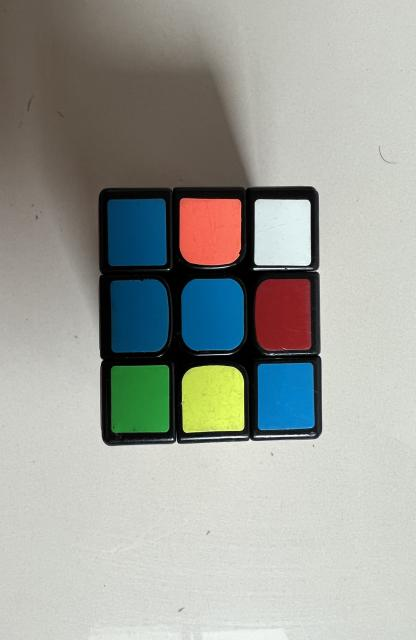Blue: (181, 279, 244, 351), (110, 279, 169, 352), (107, 199, 167, 266), (258, 362, 315, 430)
Green: (110, 365, 169, 432)
Orange: (180, 198, 242, 265)
Red: (255, 279, 311, 351)
White: (255, 199, 311, 266)
Yellow: (182, 365, 245, 432)
